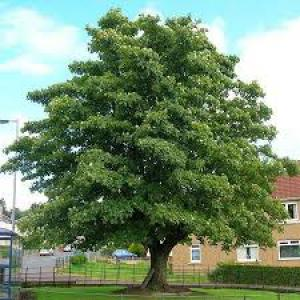Tree: (0, 6, 298, 293)
